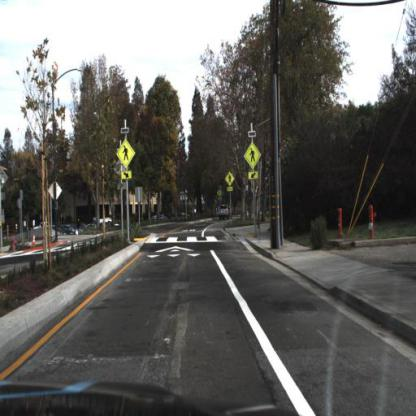car: (219, 205, 233, 220)
